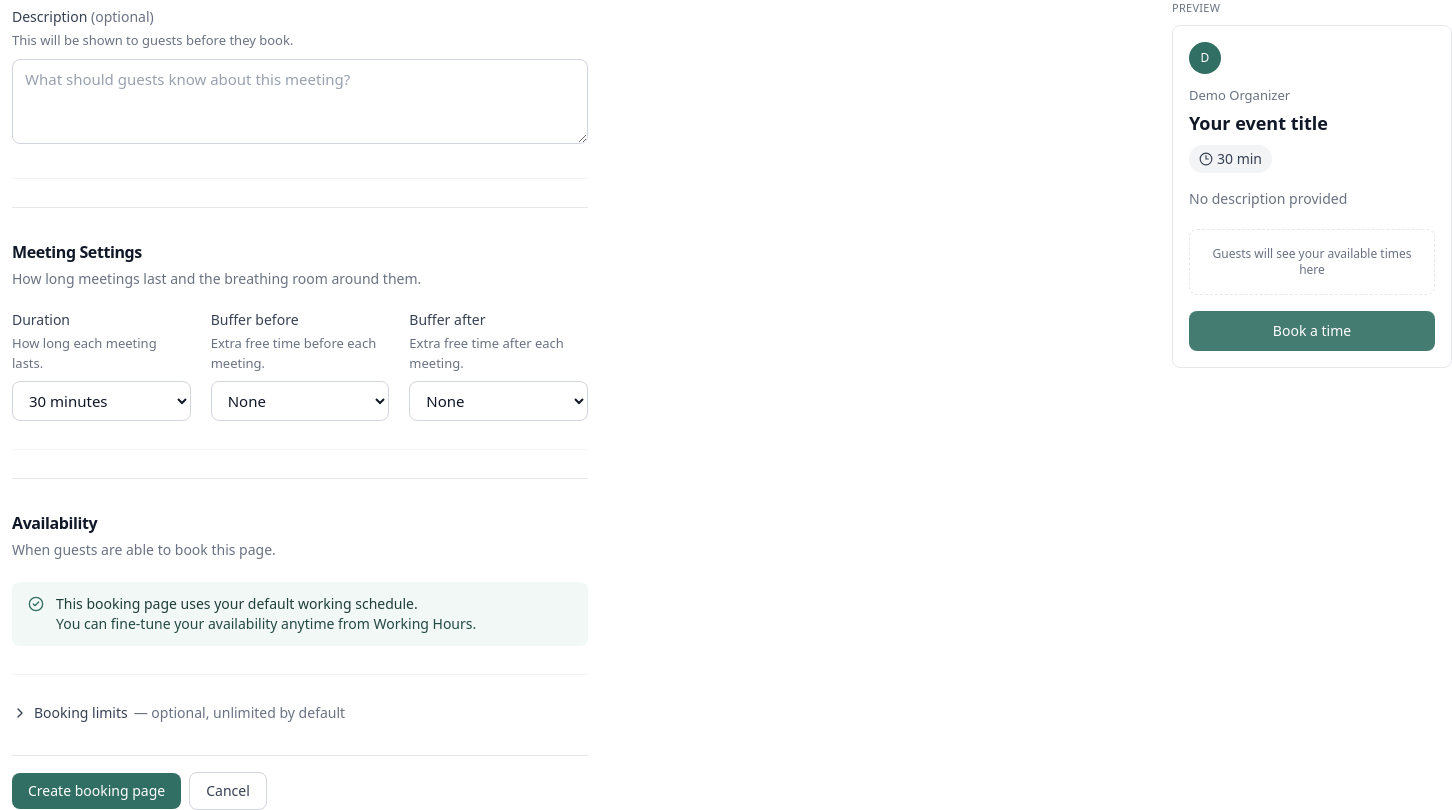
Test: CreateBookingPagePage › keeps the optional booking limits out of the way until asked for
The image size is (1452, 810).
(page scrolled)
expect the field labelled "minimum notice" is not shown: met
Click the heading "Booking limits — optional, unlimited by default". click: coordinates (179, 713)
box: [12,703,345,723]
(page scrolled)
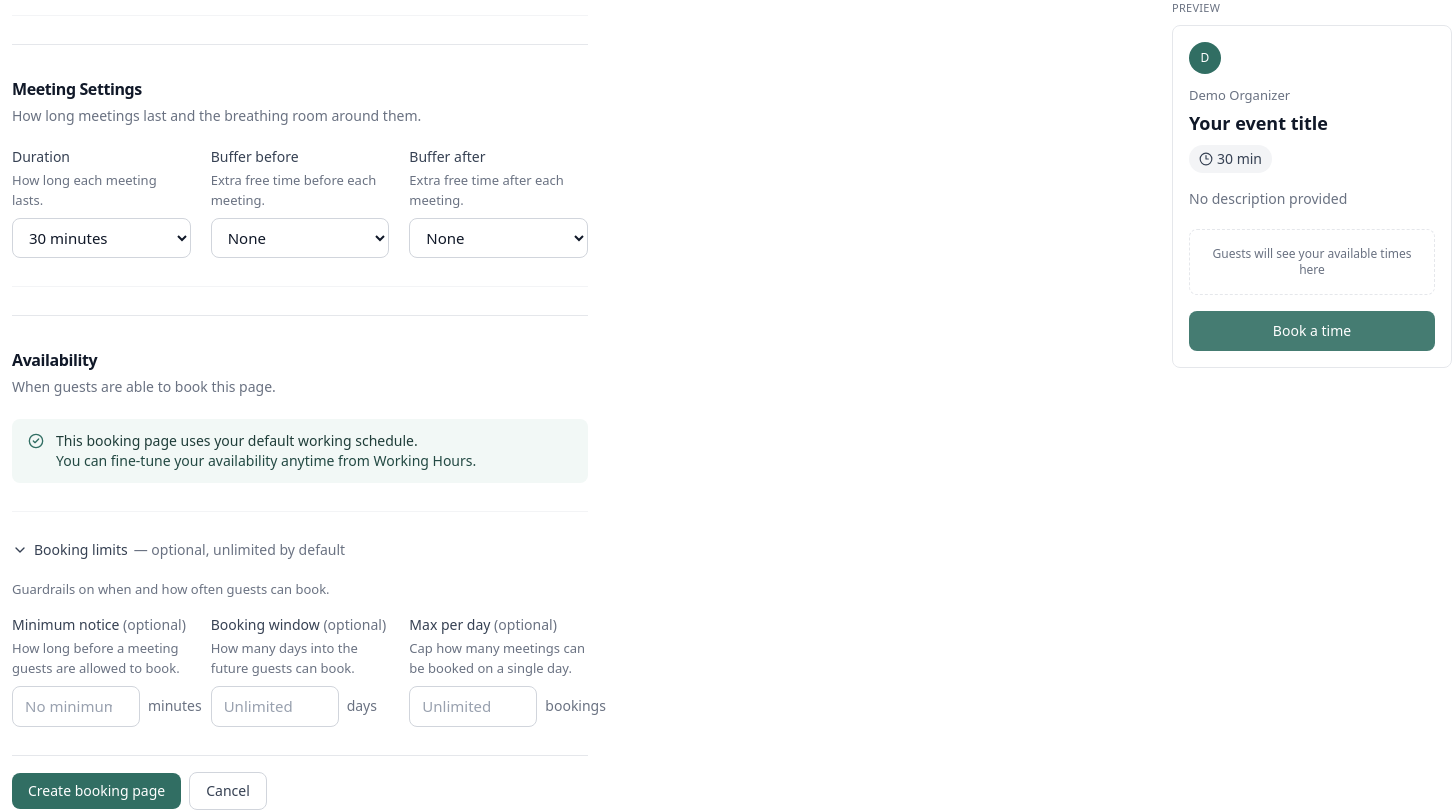
expect the number field labelled "Minimum notice (optional)" is shown: met, box [12,686,140,727]
